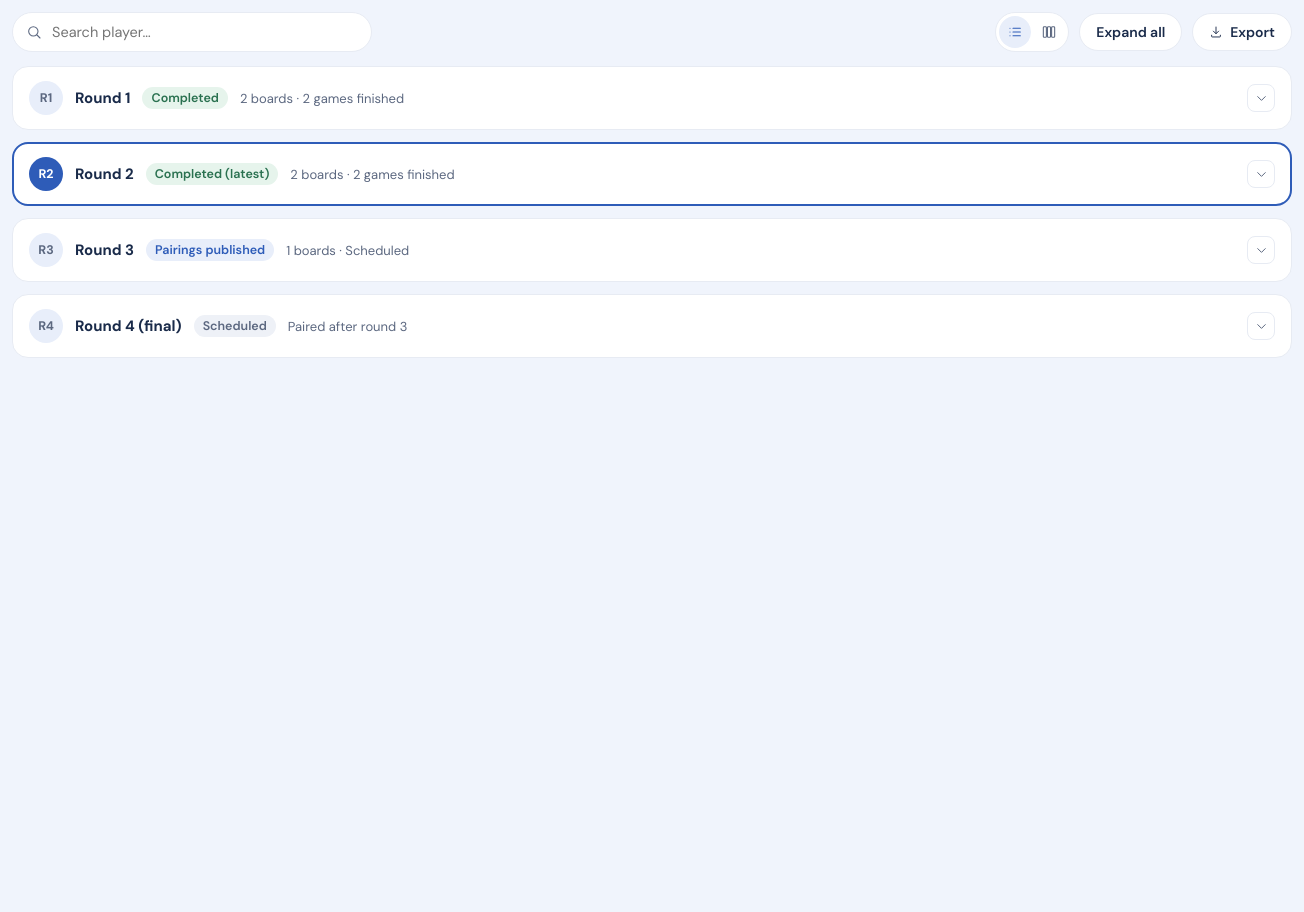
which rounds are open › opens and closes all of them at once
The width and height of the screenshot is (1304, 912).
Click the button "Expand all". click: (1131, 32)
box: [1079,13,1182,51]
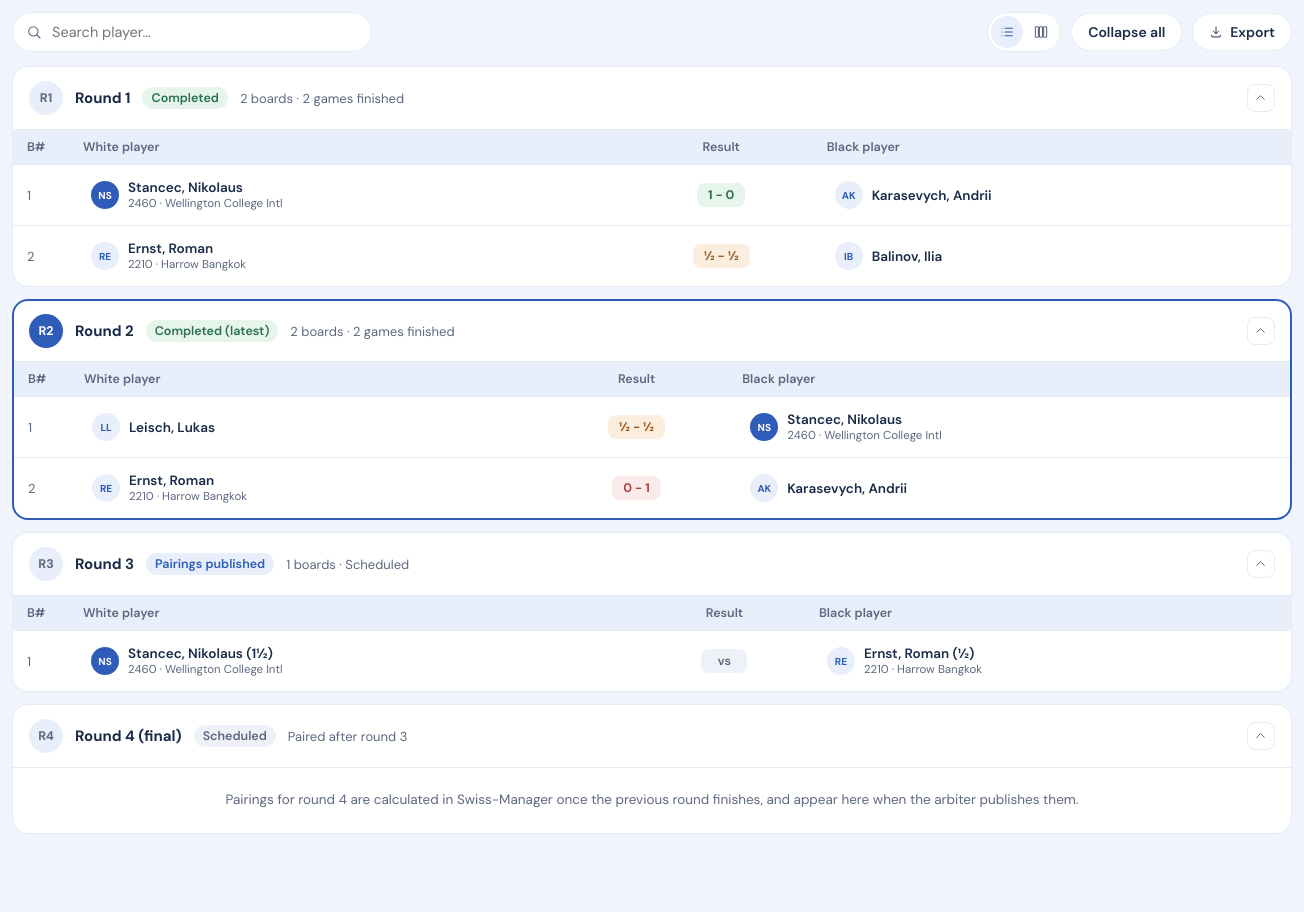
Check: the button "R2 Round 2 Completed (latest) 2 boards · 2 games finished" is expanded, box [14,301,1290,361]
Check: the button "R3 Round 3 Pairings published 1 boards · Scheduled" is expanded, box [13,533,1291,595]
Check: the button "R4 Round 4 (final) Scheduled Paired after round 3" is expanded, box [13,705,1291,767]
Click the button "Collapse all". click: (1127, 32)
box: [1071,13,1182,51]
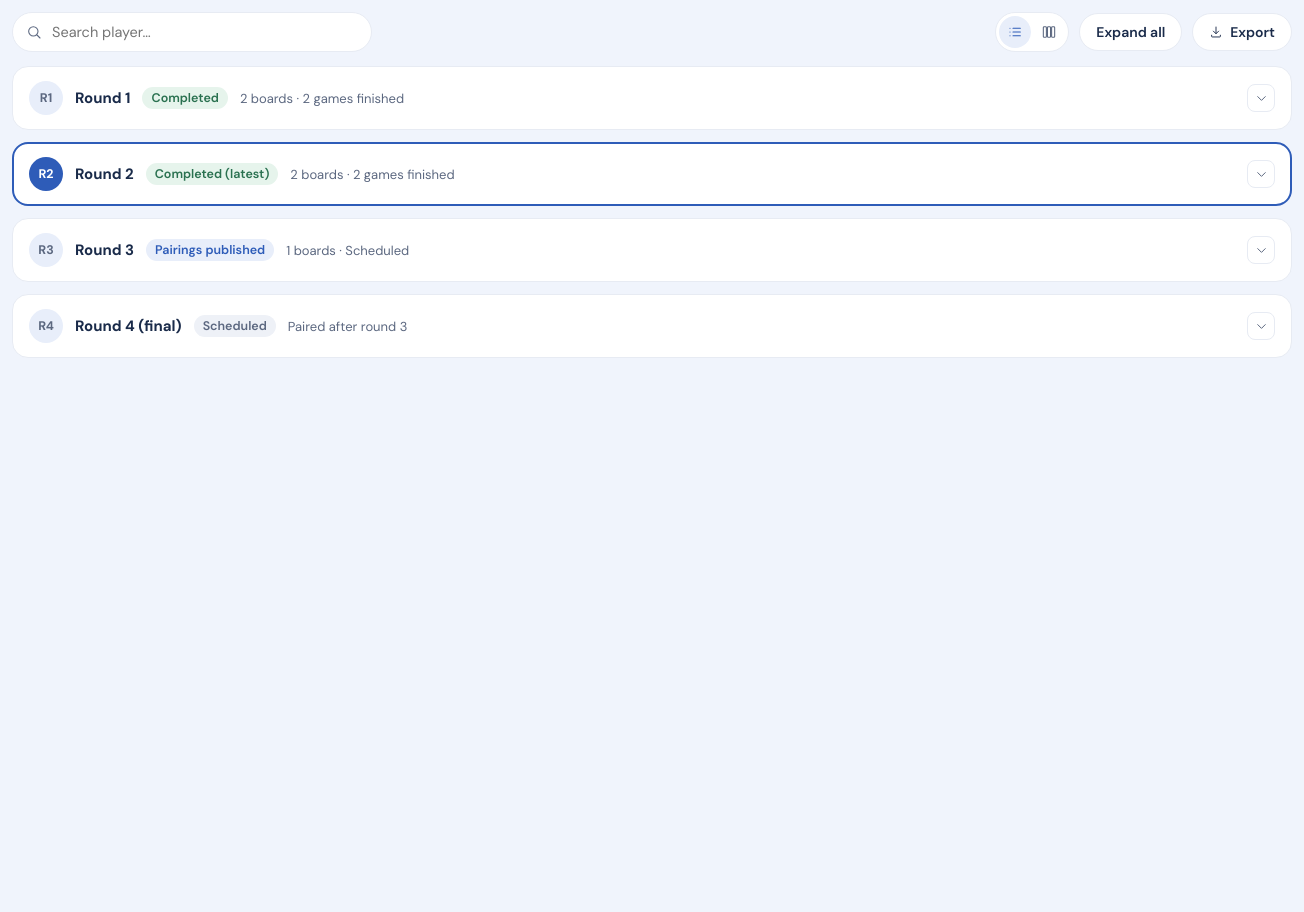
Check: the button "R2 Round 2 Completed (latest) 2 boards · 2 games finished" is collapsed, box [14,144,1290,204]
Check: the button "R3 Round 3 Pairings published 1 boards · Scheduled" is collapsed, box [13,219,1291,281]
Check: the button "R4 Round 4 (final) Scheduled Paired after round 3" is collapsed, box [13,295,1291,357]
